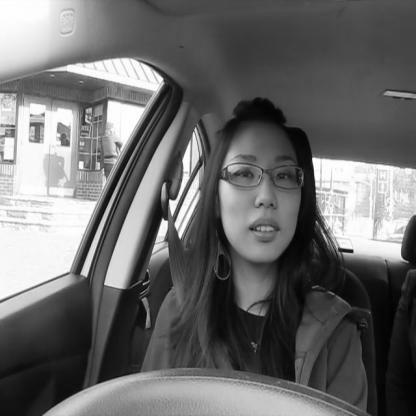seatbelt: (154, 84, 324, 416)
